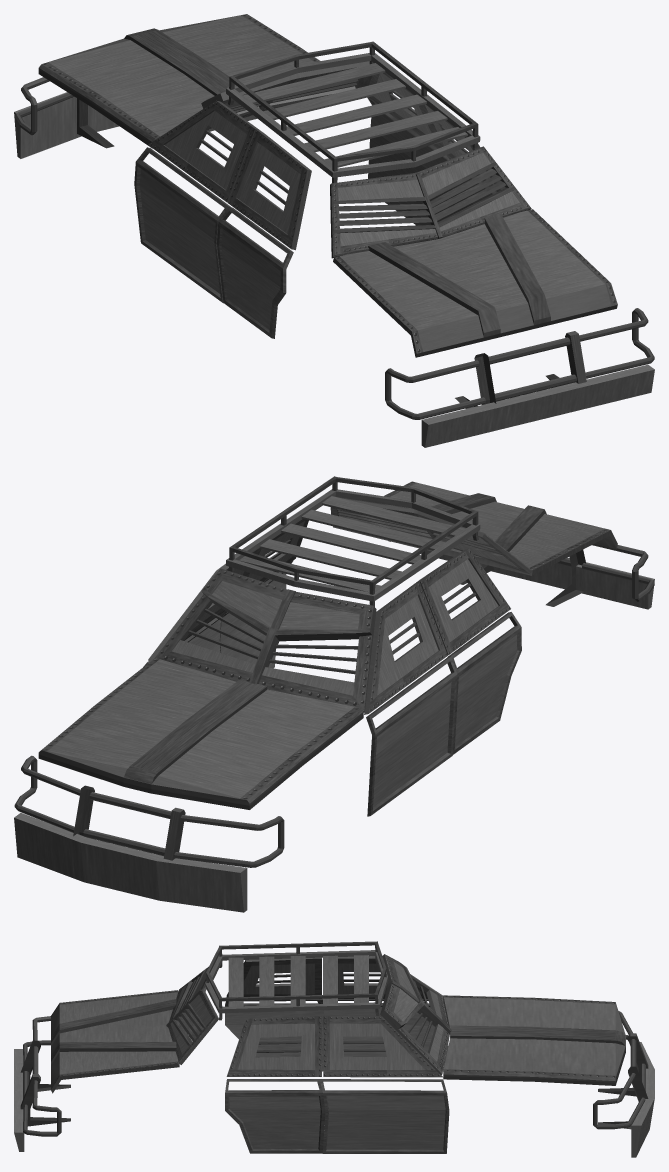
File: Vehicles_CarNormal_Heavy.fbx
The picture shows the model from 3 angles, top to bottom: view 1: azimuth 30°, elevation 25°; view 2: azimuth 150°, elevation 25°; view 3: azimuth 270°, elevation 25°; orthographic projection. The views are drawn at different scales.
Parts seen in each view (by area): view 1: normal_heavy_trunk_armor, normal_heavy_hood_armor, normal_heavy_roofrack, normal_heavy_rear_windshield_armor, normal_heavy_front_left_door_armor, normal_heavy_rear_left_door_armor, normal_heavy_rear_left_window_armor, normal_heavy_front_left_window_armor, normal_heavy_bullbar_armor, normal_heavy_windshield_armor, normal_heavy_front_right_door_armor, normal_heavy_front_right_window_armor; view 2: normal_heavy_hood_armor, normal_heavy_bullbar_armor, normal_heavy_windshield_armor, normal_heavy_roofrack, normal_heavy_trunk_armor, normal_heavy_front_left_door_armor, normal_heavy_front_left_window_armor, normal_heavy_rear_left_door_armor, normal_heavy_rear_left_window_armor, normal_heavy_rear_windshield_armor, normal_heavy_rear_right_door_armor, normal_heavy_front_right_window_armor (+2 smaller); view 3: normal_heavy_hood_armor, normal_heavy_trunk_armor, normal_heavy_front_right_door_armor, normal_heavy_roofrack, normal_heavy_rear_right_door_armor, normal_heavy_front_right_window_armor, normal_heavy_rear_right_window_armor, normal_heavy_windshield_armor, normal_heavy_bullbar_armor, normal_heavy_rear_windshield_armor, normal_heavy_rear_left_door_armor, normal_heavy_rear_left_window_armor (+2 smaller).
Part boxes in pixels (<box>): normal_heavy_trunk_armor: <box>333,209,654,447</box>; normal_heavy_hood_armor: <box>38,14,319,148</box>; normal_heavy_roofrack: <box>226,41,480,183</box>; normal_heavy_rear_windshield_armor: <box>330,146,531,258</box>; normal_heavy_front_left_door_armor: <box>134,147,230,303</box>; normal_heavy_rear_left_door_armor: <box>216,207,293,338</box>; normal_heavy_rear_left_window_armor: <box>228,129,311,250</box>; normal_heavy_front_left_window_armor: <box>148,100,259,202</box>; normal_heavy_bullbar_armor: <box>14,77,119,158</box>; normal_heavy_windshield_armor: <box>201,61,371,128</box>; normal_heavy_front_right_door_armor: <box>367,97,451,225</box>; normal_heavy_front_right_window_armor: <box>368,72,441,148</box>; normal_heavy_hood_armor: <box>38,658,363,809</box>; normal_heavy_bullbar_armor: <box>14,755,284,912</box>; normal_heavy_windshield_armor: <box>154,568,376,712</box>; normal_heavy_roofrack: <box>226,476,480,606</box>; normal_heavy_trunk_armor: <box>333,481,654,609</box>; normal_heavy_front_left_door_armor: <box>366,656,457,816</box>; normal_heavy_front_left_window_armor: <box>364,582,447,714</box>; normal_heavy_rear_left_door_armor: <box>448,612,521,754</box>; normal_heavy_rear_left_window_armor: <box>416,548,510,655</box>; normal_heavy_rear_windshield_armor: <box>330,497,531,574</box>; normal_heavy_rear_right_door_armor: <box>219,560,293,668</box>; normal_heavy_front_right_window_armor: <box>148,549,257,661</box>; normal_heavy_hood_armor: <box>443,995,625,1085</box>; normal_heavy_trunk_armor: <box>14,990,179,1151</box>; normal_heavy_front_right_door_armor: <box>319,1079,449,1153</box>; normal_heavy_roofrack: <box>205,941,388,1020</box>; normal_heavy_rear_right_door_armor: <box>225,1079,325,1153</box>; normal_heavy_front_right_window_armor: <box>323,1016,442,1077</box>; normal_heavy_rear_right_window_armor: <box>226,1016,321,1076</box>; normal_heavy_windshield_armor: <box>380,954,451,1075</box>; normal_heavy_bullbar_armor: <box>593,1011,654,1157</box>; normal_heavy_rear_windshield_armor: <box>166,966,218,1064</box>; normal_heavy_rear_left_door_armor: <box>225,999,324,1071</box>; normal_heavy_rear_left_window_armor: <box>226,957,321,998</box>.
Size of the model in its own units: 0.958 by 0.7075 by 2.78.
